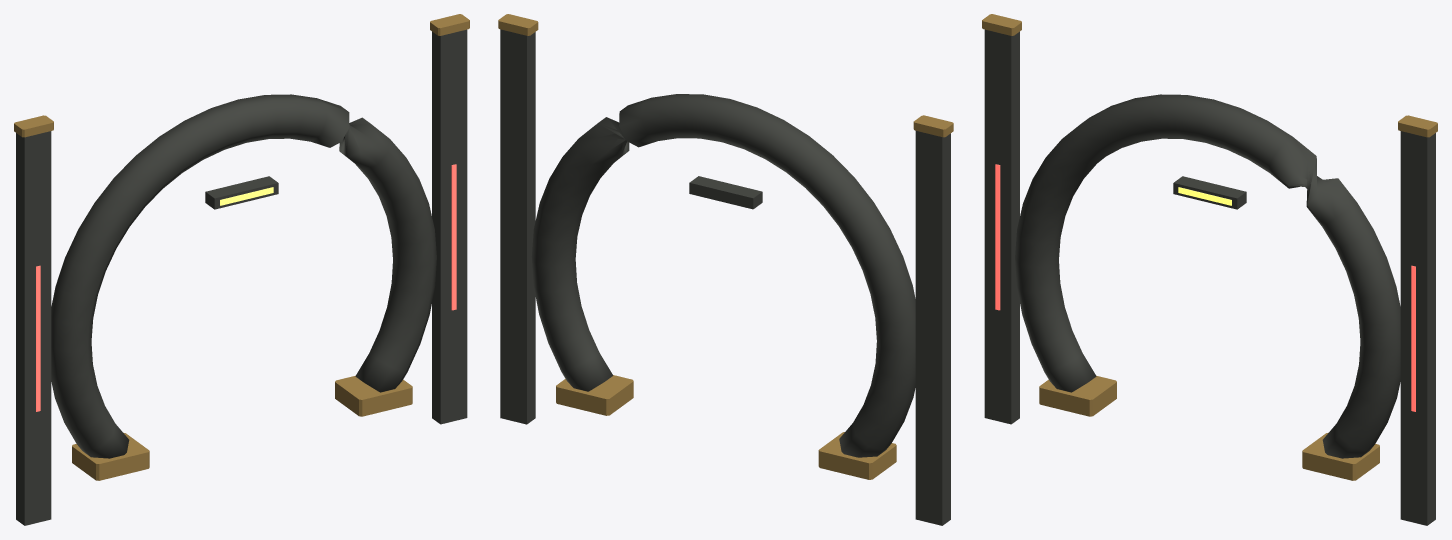
File: b4_vault.glb
3 renders of one model, left to right at view 1: azimuth 30°, elevation 25°; view 2: azimuth 150°, elevation 25°; view 3: azimuth 330°, elevation 25°, orthographic.
Visible parts, largest first — view 1: b4_vault; view 2: b4_vault; view 3: b4_vault.
Part boxes in pixels (x1,y1,x2,y2): b4_vault: [14, 14, 469, 525]; b4_vault: [498, 14, 953, 525]; b4_vault: [982, 14, 1437, 525].
Bounding box in the file's own units: 8.4 × 7.12 × 0.864.
